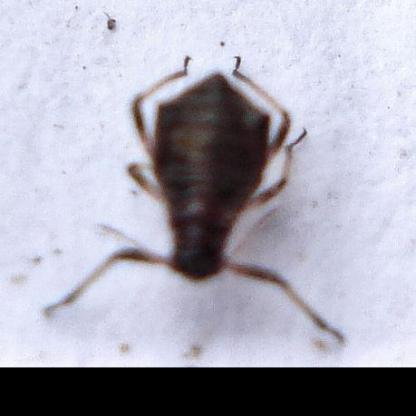aphid: (48, 46, 356, 348)
